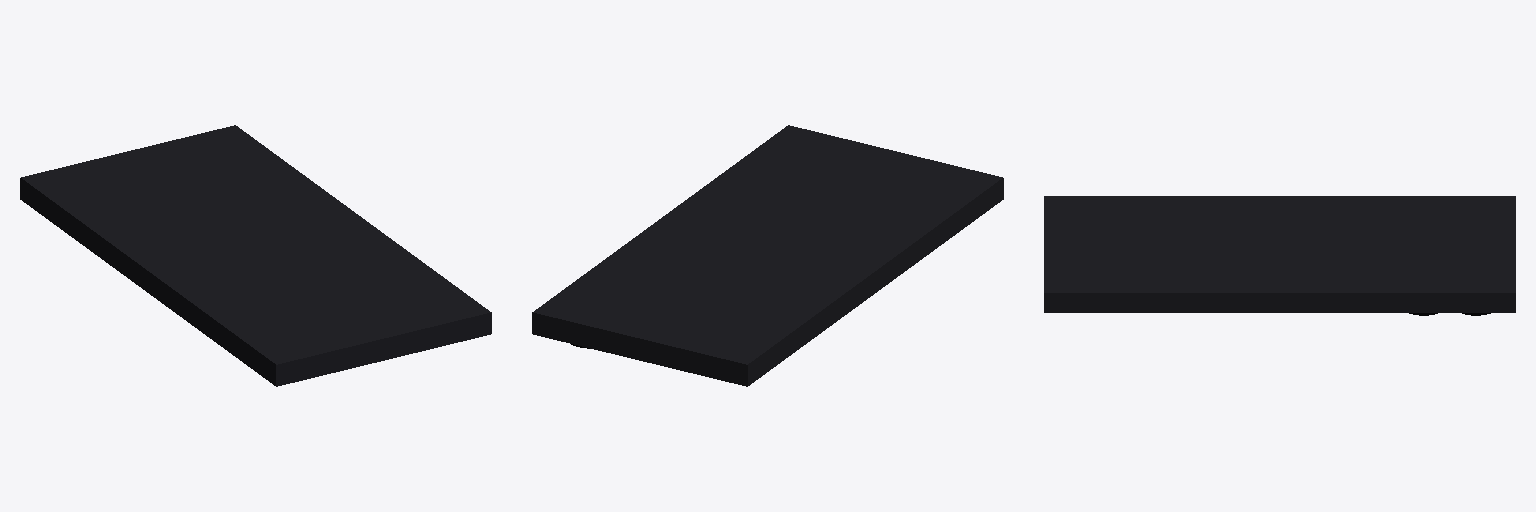
URDF robot description (iphone_13_pro_max):
<?xml version="1.0"?>
<!-- iPhone 13 Pro Max: generated by imuninn from Apple's dimensional drawings (iphone-frames dataset). Frames: device = display centre on the front glass (x right, y top, z out of the screen); cam_*_optical = OpenCV axes. Geometry and mass are approximate. -->
<robot name="iphone_13_pro_max">
  <material name="iphone_body">
    <color rgba="0.15 0.15 0.17 1" />
  </material>
  <material name="iphone_lens">
    <color rgba="0.05 0.05 0.06 1" />
  </material>
  <link name="device">
    <visual name="body">
      <origin xyz="0 0 -0.003825" rpy="0 0 0" />
      <geometry>
        <box size="0.07807 0.16084 0.00765" />
      </geometry>
      <material name="iphone_body" />
    </visual>
    <collision name="body">
      <origin xyz="0 0 -0.003825" rpy="0 0 0" />
      <geometry>
        <box size="0.07807 0.16084 0.00765" />
      </geometry>
    </collision>
    <visual name="lens_telephoto">
      <origin xyz="0.025605 0.06699 -0.00945" rpy="0 0 0" />
      <geometry>
        <cylinder radius="0.007765" length="0.0036" />
      </geometry>
      <material name="iphone_lens" />
    </visual>
    <visual name="lens_main">
      <origin xyz="0.025605 0.04907 -0.00945" rpy="0 0 0" />
      <geometry>
        <cylinder radius="0.007765" length="0.0036" />
      </geometry>
      <material name="iphone_lens" />
    </visual>
    <visual name="lens_ultra_wide">
      <origin xyz="0.008955 0.05803 -0.00945" rpy="0 0 0" />
      <geometry>
        <cylinder radius="0.007765" length="0.0036" />
      </geometry>
      <material name="iphone_lens" />
    </visual>
    <inertial>
      <origin xyz="0 0 -0.003825" rpy="0 0 0" />
      <mass value="0.221" />
      <inertia ixx="0.000477508" ixy="0" ixz="0" iyy="0.000113326" iyz="0" izz="0.000588678" />
    </inertial>
  </link>
  <link name="magsafe" />
  <joint name="device_to_magsafe" type="fixed">
    <parent link="device" />
    <child link="magsafe" />
    <origin xyz="-5e-06 0 -0.00765" rpy="3.14159265 0 3.14159265" />
  </joint>
  <link name="cam_telephoto_optical" />
  <joint name="device_to_cam_telephoto_optical" type="fixed">
    <parent link="device" />
    <child link="cam_telephoto_optical" />
    <origin xyz="0.025605 0.06699 -0.01125" rpy="3.14159265 0 -1.57079633" />
  </joint>
  <link name="cam_main_optical" />
  <joint name="device_to_cam_main_optical" type="fixed">
    <parent link="device" />
    <child link="cam_main_optical" />
    <origin xyz="0.025605 0.04907 -0.01125" rpy="3.14159265 0 -1.57079633" />
  </joint>
  <link name="cam_ultra_wide_optical" />
  <joint name="device_to_cam_ultra_wide_optical" type="fixed">
    <parent link="device" />
    <child link="cam_ultra_wide_optical" />
    <origin xyz="0.008955 0.05803 -0.01125" rpy="3.14159265 0 -1.57079633" />
  </joint>
  <link name="cam_front_optical" />
  <joint name="device_to_cam_front_optical" type="fixed">
    <parent link="device" />
    <child link="cam_front_optical" />
    <origin xyz="5e-06 0.07483 0" rpy="0 0 1.57079633" />
  </joint>
  <link name="imu" />
  <joint name="device_to_imu" type="fixed">
    <parent link="device" />
    <child link="imu" />
    <origin xyz="0 0 0" rpy="0 0 0" />
  </joint>
</robot>

--- Facts derived from the render (not from the file) ---
Views: 3 orthographic renders of the robot side by side, from view 1: azimuth 30°, elevation 25°; view 2: azimuth 150°, elevation 25°; view 3: azimuth 270°, elevation 25°.
Robot: iphone_13_pro_max — 7 links, 6 joints (6 fixed); root link device; default pose: every joint at zero.
Links seen in each view (by area): view 1: device; view 2: device; view 3: device.
Link boxes in pixels (<box>): device: <box>20,125,491,386</box>; device: <box>532,125,1003,386</box>; device: <box>1044,196,1515,315</box>.
Bounding box of the posed robot: 0.0781 × 0.1608 × 0.0112 m (x, y, z).
Geometry: primitives only (box / cylinder / sphere), no mesh files.
